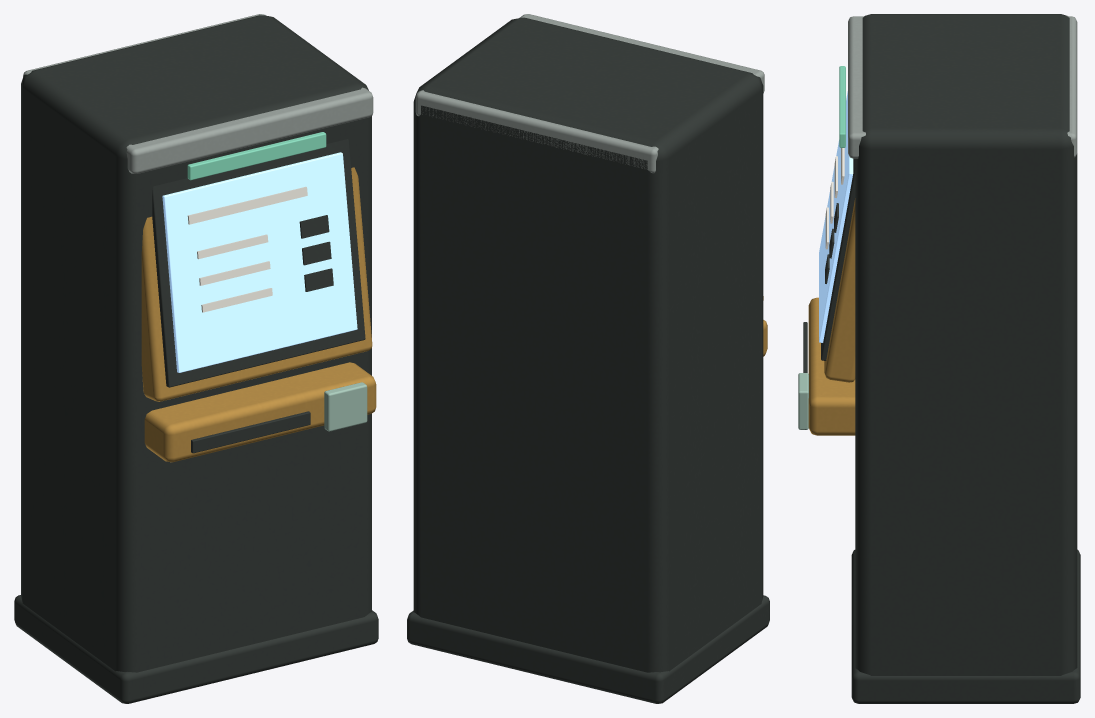
File: ticket-machine-open.glb
3 renders of one model, left to right at view 1: azimuth 30°, elevation 25°; view 2: azimuth 150°, elevation 25°; view 3: azimuth 270°, elevation 25°, orthographic. The views are drawn at different scales.
Visible parts, largest first — view 1: chassis, screen, foot_plinth, ticket_shelf, screen_recess, top_cap, screen_frame, status_indicator, card_reader, ticket_slot, screen_heading, screen_row_1 (+2 smaller); view 2: chassis, foot_plinth, top_cap; view 3: chassis, foot_plinth, ticket_shelf, top_cap, screen_frame, screen, screen_recess, card_reader, status_indicator.
Part boxes in pixels (x1=…): chassis: x1=21, y1=15, x2=371, y2=672; screen: x1=162, y1=152, x2=357, y2=372; foot_plinth: x1=14, y1=595, x2=378, y2=703; ticket_shelf: x1=144, y1=362, x2=376, y2=462; screen_recess: x1=152, y1=139, x2=365, y2=387; top_cap: x1=23, y1=14, x2=373, y2=173; screen_frame: x1=141, y1=167, x2=372, y2=401; status_indicator: x1=187, y1=132, x2=326, y2=180; card_reader: x1=324, y1=382, x2=367, y2=431; ticket_slot: x1=191, y1=411, x2=310, y2=453; screen_heading: x1=187, y1=186, x2=307, y2=224; screen_row_1: x1=199, y1=261, x2=270, y2=285; chassis: x1=413, y1=17, x2=763, y2=672; foot_plinth: x1=407, y1=595, x2=769, y2=703; top_cap: x1=415, y1=14, x2=764, y2=173; chassis: x1=855, y1=14, x2=1077, y2=675; foot_plinth: x1=851, y1=549, x2=1080, y2=703; ticket_shelf: x1=808, y1=297, x2=855, y2=435; top_cap: x1=848, y1=16, x2=1077, y2=158; screen_frame: x1=824, y1=198, x2=855, y2=382; screen: x1=819, y1=91, x2=853, y2=342; screen_recess: x1=821, y1=158, x2=855, y2=360; card_reader: x1=798, y1=373, x2=808, y2=429; status_indicator: x1=839, y1=66, x2=845, y2=147.
Size of the model in its own units: 0.85 by 1.76 by 0.789.
Materials: 7 (3 with a texture image).
